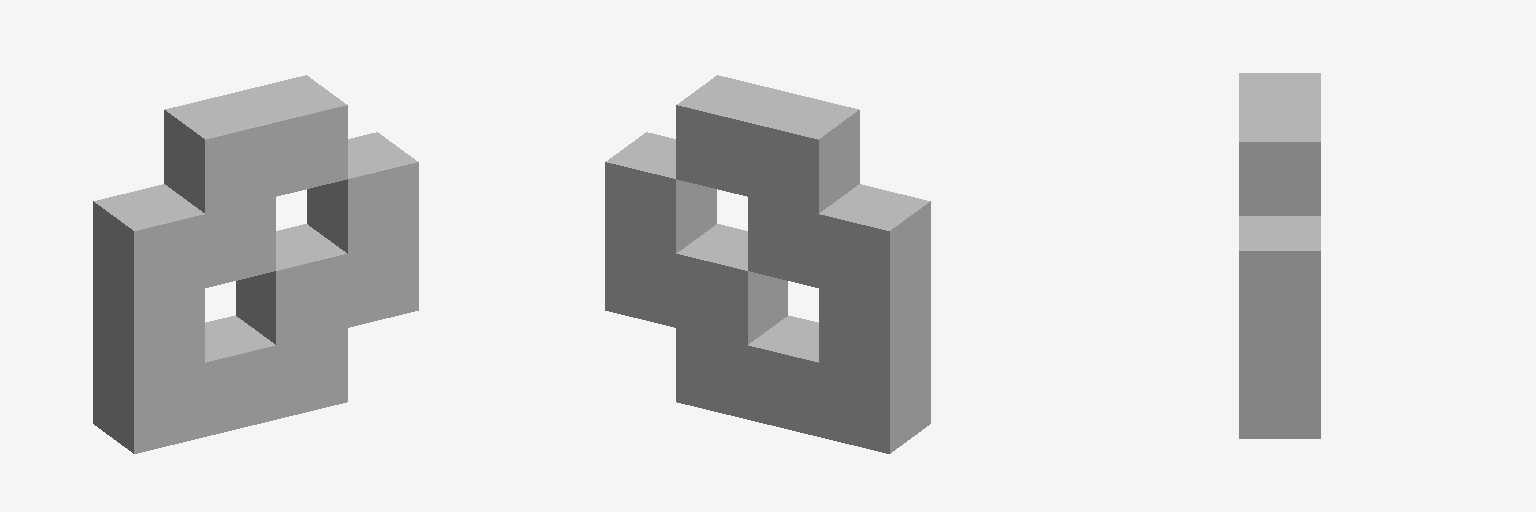
The model's file is Ore.obj.
3 views of the same model, side by side, from view 1: azimuth 30°, elevation 25°; view 2: azimuth 150°, elevation 25°; view 3: azimuth 270°, elevation 25° (orthographic).
Parts seen in each view (by area): view 1: object 1; view 2: object 1; view 3: object 1.
Boxes of the visible parts, <box> form: object 1: <box>93,75,418,453</box>; object 1: <box>605,75,930,453</box>; object 1: <box>1239,73,1320,438</box>.
Size of the model in its own units: 0.4 by 0.4 by 0.1.